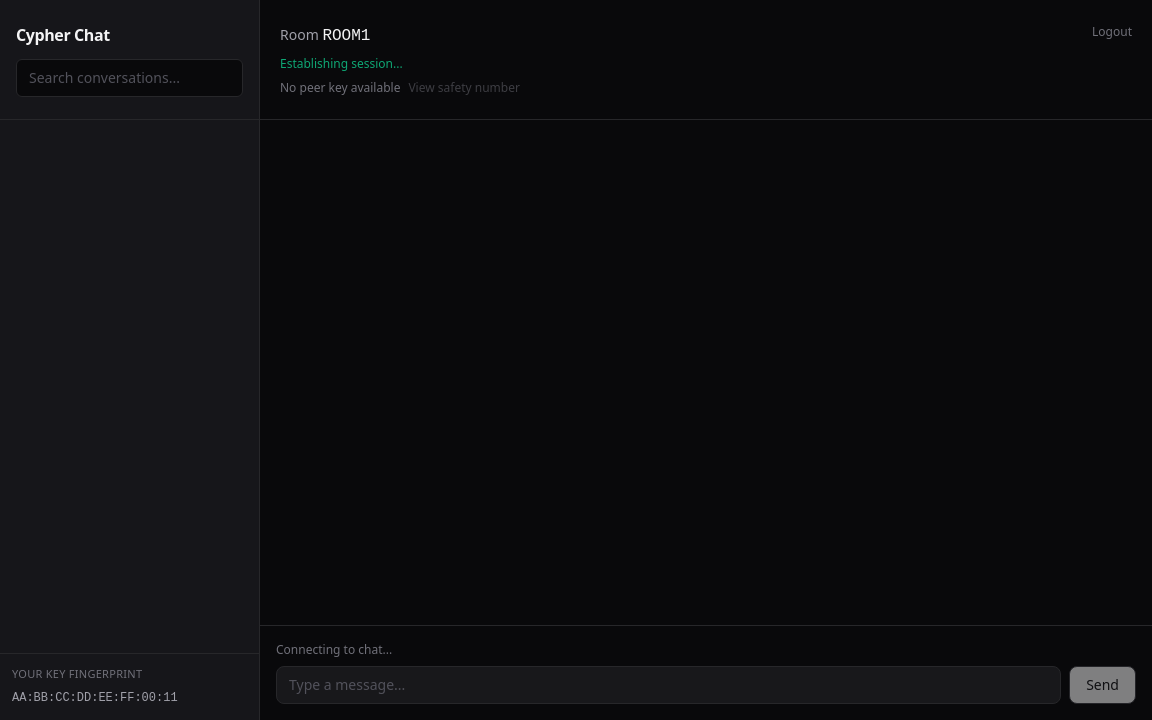
Test: ChatRoom integration › does not send a pending room message through the next selected room socket
Type "room one queued" into the field with placeholder "Type a message..." at (669, 685), box [276,666,1061,704]
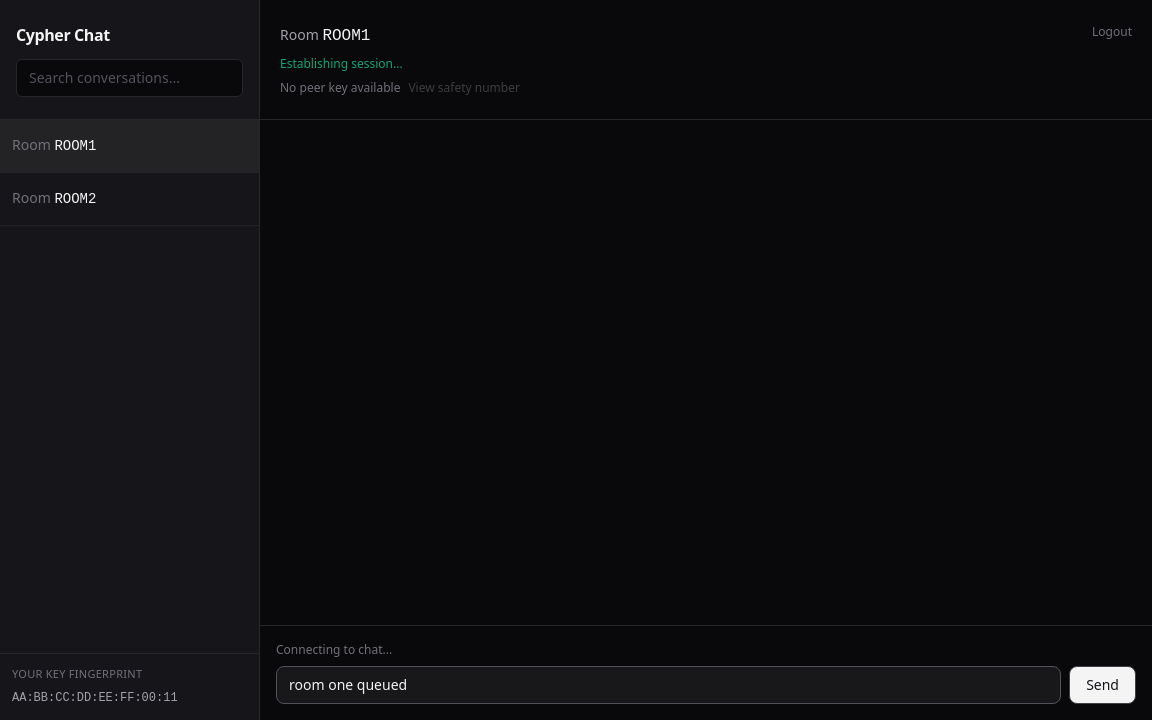
Click the button "Send" at (1103, 685), box [1069,666,1136,704]
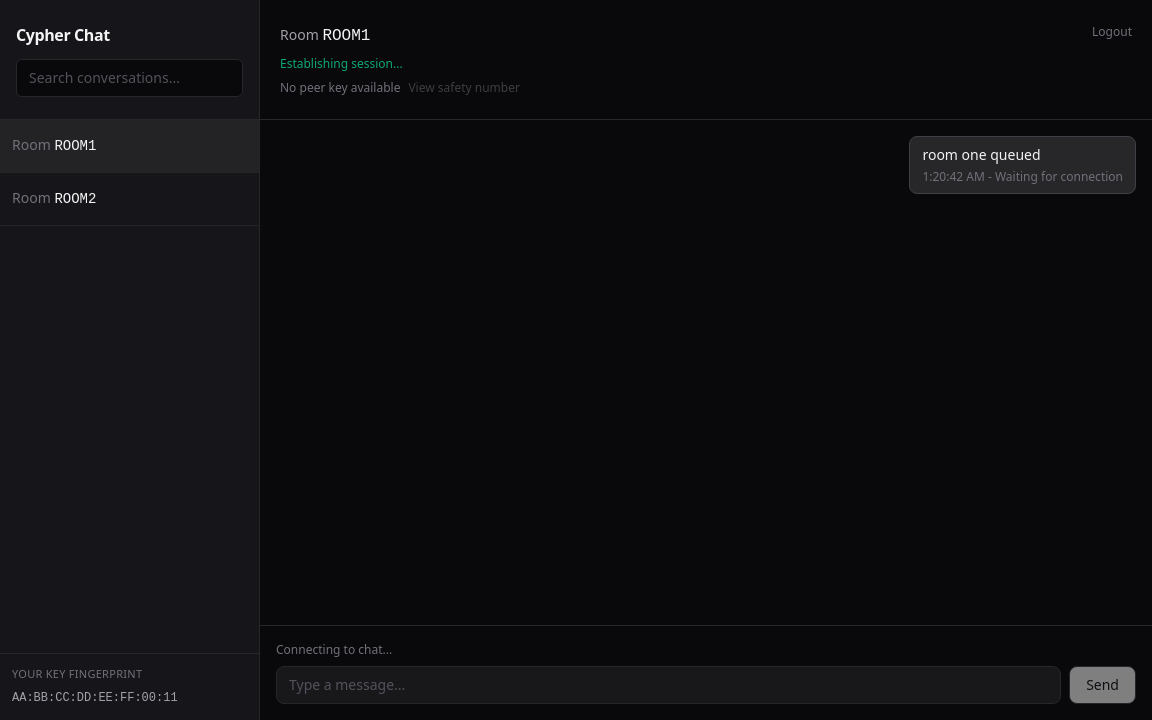
Result: the text "room one queued" is shown at [922,145,1041,164]
Click the text "ROOM2" at (75, 198), box [54,190,96,206]
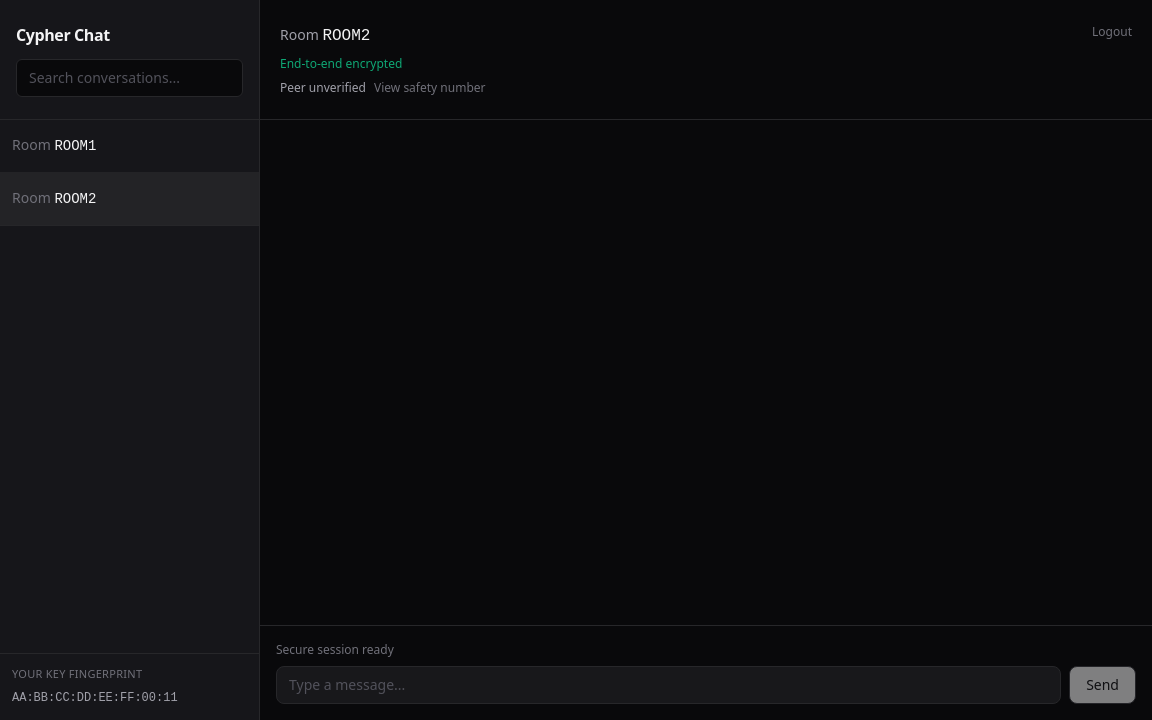
Result: the text "Secure session ready" is shown at [276,641,394,658]
